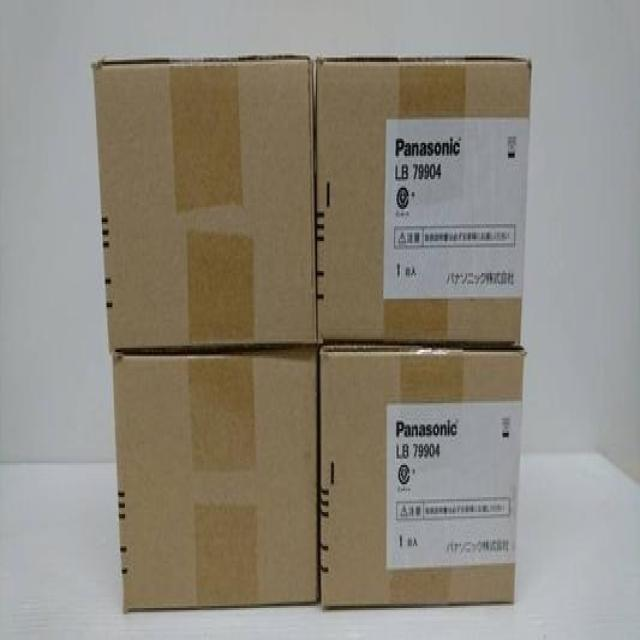box: (92, 57, 317, 352), (315, 58, 531, 349), (112, 351, 319, 615), (319, 344, 523, 609)
